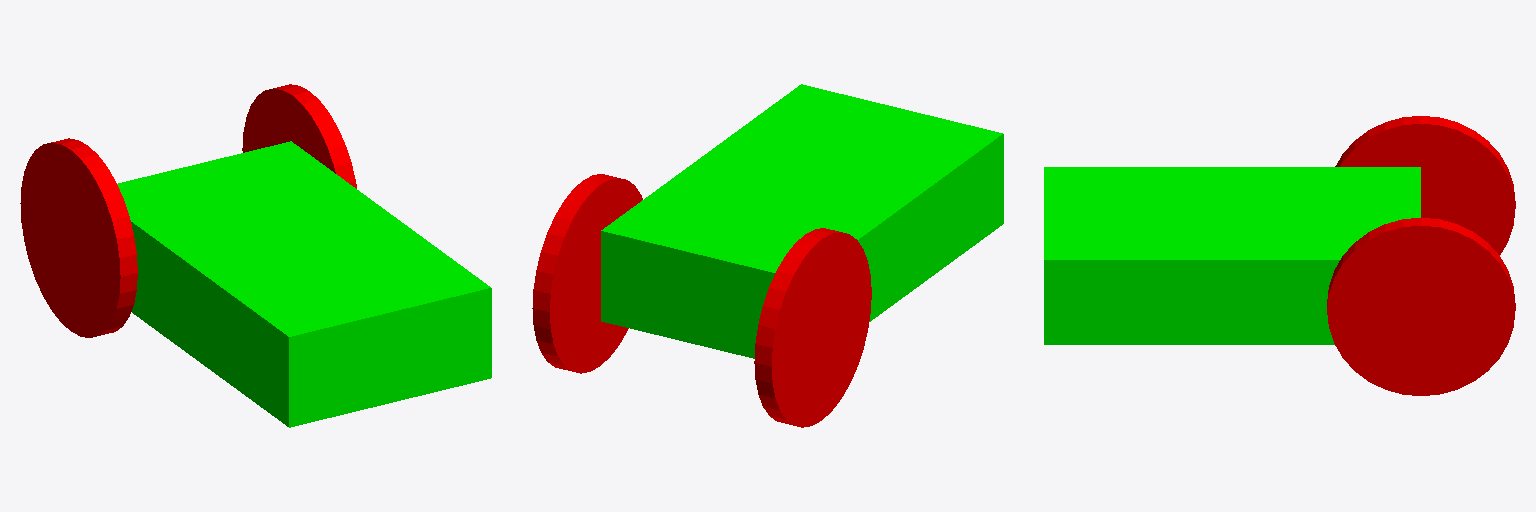
The robot description file, URDF, robot "whadlo":
<?xml version="1.0" encoding="utf-8"?>
<robot name="whadlo">
  
  <material name="green">
    <color rgba="0 1 0 1"/>
  </material>
  
  <material name="red">
    <color rgba="1 0 0 1"/>
  </material>
  
  <material name="blue">
    <color rgba="0 0 1 1"/>
  </material>

  <link name="korpus">
    <visual>
      <geometry>
        <box size="0.35 0.6 0.15"/>
      </geometry>
      <origin rpy="0 0 0" xyz="0 0 0"/>
      <material name="green"/>
    </visual>
    <collision>
      <geometry>
        <box size="0.35 0.6 0.15"/>
      </geometry>
      <origin rpy="0 0 0" xyz="0 0 0"/>
    </collision>
    <inertial>
      <mass value="24.489814"/>
      <origin rpy="0 0 0" xyz="0.175 0.34674301 0.08202843"/>
      <inertia ixx="0.74799408" ixy="0" ixz="0" iyy="0.31971488" iyz="-0.03386439" izz="0.97013512"/>
    </inertial>
  </link>
  <link name="kolo_lewe">
    <visual>
      <geometry>
        <cylinder radius="0.15" length="0.03"/>
      </geometry>
      <origin rpy="0 0 0" xyz="0 0 0"/>
      <material name="red"/>
    </visual>
    <collision>
      <geometry>
        <cylinder radius="0.15" length="0.03"/>
      </geometry>
      <origin rpy="0 0 0" xyz="0 0 0"/>
    </collision>
    <inertial>
      <mass value="2.1800701"/>
      <origin rpy="0 0 0" xyz="0 0.01520197 0"/>
      <inertia ixx="0.01233948" ixy="0" ixz="0" iyy="0.02433941" iyz="0" izz="0.01233948"/>
    </inertial>
  </link>
  <joint name="z_kolo_lewe" type="continuous">
    <parent link="korpus"/>
    <child link="kolo_lewe"/>
    <origin xyz="0.192 0.3 0" rpy="0 -1.57 0"/>
    <axis xyz="0 0 1"/>
  </joint>
  <link name="kolo_prawe">
    <visual>
      <geometry>
        <cylinder radius="0.15" length="0.03"/>
      </geometry>
      <origin rpy="0 0 0" xyz="0 0 0"/>
      <material name="red"/>
    </visual>
    <collision>
      <geometry>
        <cylinder radius="0.15" length="0.03"/>
      </geometry>
      <origin rpy="0 0 0" xyz="0 0 0"/>
    </collision>
    <inertial>
      <mass value="2.1800701"/>
      <origin rpy="0 0 0" xyz="0 0.01520197 0"/>
      <inertia ixx="0.01233948" ixy="0" ixz="0" iyy="0.02433941" iyz="0" izz="0.01233948"/>
    </inertial>
  </link>
  
  <joint name="z_kolo_prawe" type="continuous">
    <parent link="korpus"/>
    <child link="kolo_prawe"/>
    <origin xyz="-0.192 0.3 0" rpy="0 -1.57 0"/>
    <axis xyz="0 0 1"/>
  </joint>
</robot>

--- Render facts (derived) ---
3 views of the same robot in one strip: view 1: azimuth 30°, elevation 25°; view 2: azimuth 150°, elevation 25°; view 3: azimuth 270°, elevation 25° (orthographic).
Robot: whadlo — 3 links, 2 joints (2 continuous); root link korpus; default pose: every joint at zero.
Links seen in each view (by area): view 1: korpus, kolo_prawe, kolo_lewe; view 2: korpus, kolo_prawe, kolo_lewe; view 3: korpus, kolo_lewe, kolo_prawe.
Boxes of the visible links, x1=… form: korpus: x1=117, y1=141, x2=491, y2=427; kolo_prawe: x1=20, y1=138, x2=137, y2=337; kolo_lewe: x1=242, y1=84, x2=356, y2=188; korpus: x1=601, y1=84, x2=1003, y2=358; kolo_prawe: x1=754, y1=228, x2=871, y2=427; kolo_lewe: x1=532, y1=174, x2=642, y2=373; korpus: x1=1044, y1=167, x2=1420, y2=344; kolo_lewe: x1=1327, y1=218, x2=1515, y2=395; kolo_prawe: x1=1335, y1=116, x2=1515, y2=254.
Bounding box of the posed robot: 0.4142 × 0.75 × 0.3 m (x, y, z).
Geometry: primitives only (box / cylinder / sphere), no mesh files.
